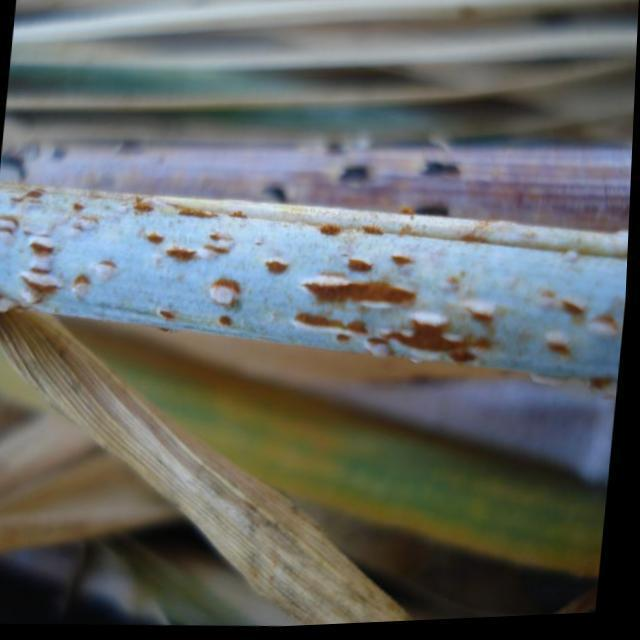Stem_Rust: (0, 304, 417, 627), (0, 183, 630, 389), (1, 134, 633, 238)
